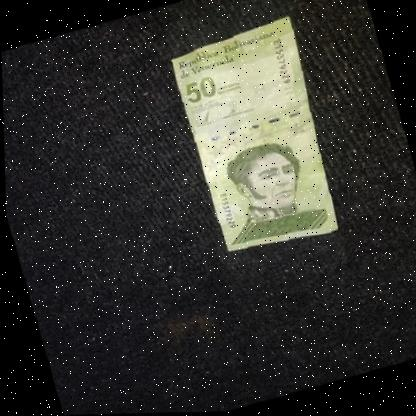vef_front: (166, 16, 345, 262)
